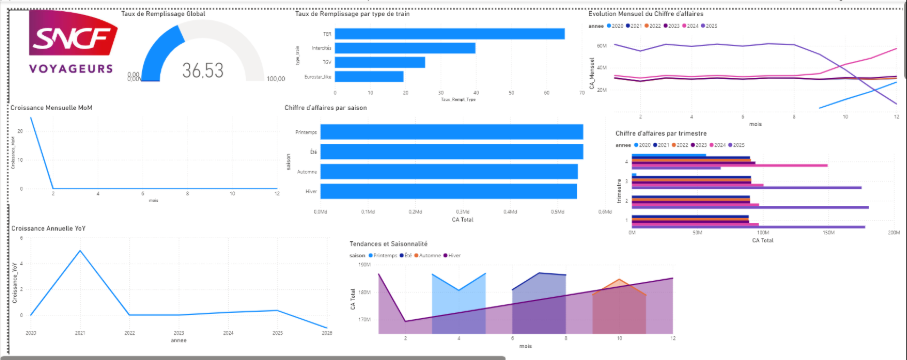

Layout of this report page (visuals, bound fields, positions):
{"tool":"powerbi","page":{"name":"Page 2","canvas":[4000,4000],"ordinal":1},"visuals":[{"type":"image","box":[2,0,326,158],"z":0},{"type":"gauge","title":"Taux de Remplissage Global","fields":{"Y":["sncf_dw f_ventes.Taux_Rempl_Type"]},"box":[276,0,434,188],"z":1000},{"type":"clusteredBarChart","title":"Taux de Remplissage par type de train","fields":{"Category":["sncf_dw dim_train.type_train"],"Y":["sncf_dw f_ventes.Taux_Rempl_Type"]},"box":[710,0,732,234],"z":2000},{"type":"lineChart","title":"Evolution Mensuel du Chiffre d’affaires","fields":{"Category":["sncf_dw dim_date.mois"],"Y":["sncf_dw f_ventes.CA_Mensuel"],"Series":["sncf_dw dim_date.annee"]},"box":[1442,0,788,298],"z":3000},{"type":"lineChart","title":"Croissance Mensuelle MoM ","fields":{"Y":["sncf_dw f_ventes.Croissance_MoM"],"Category":["sncf_dw dim_date.mois"]},"box":[0,234,684,252],"z":4000},{"type":"clusteredBarChart","title":"Chiffre d’affaires par saison","fields":{"Y":["sncf_dw f_ventes.CA Total"],"Category":["sncf_dw dim_date.saison"]},"box":[684,234,826,302],"z":5000},{"type":"clusteredBarChart","title":"Chiffre d’affaires par trimestre ","fields":{"Category":["sncf_dw dim_date.trimestre"],"Y":["sncf_dw f_ventes.CA Total"],"Series":["sncf_dw dim_date.annee"]},"box":[1510,298,720,290],"z":6000},{"type":"lineChart","title":"Croissance Annuelle YoY ","fields":{"Y":["sncf_dw f_ventes.Croissance_YoY"],"Category":["sncf_dw dim_date.annee"]},"box":[2,536,916,316],"z":7000},{"type":"areaChart","title":"Tendances et Saisonnalité","fields":{"Category":["sncf_dw dim_date.mois"],"Y":["sncf_dw f_ventes.CA Total"],"Series":["sncf_dw dim_date.saison"]},"box":[1034,588,1032,264],"z":8000}]}

Visuals, with their boxes on the page's 4000x4000 design canvas (x1, y1, x2, y2). These are canvas units, not pixel positions in the 907x360 screenshot, which may show the page scaled, cropped or inside an application window:
image: (2, 0, 328, 158)
"Taux de Remplissage Global" gauge: (276, 0, 710, 188)
"Taux de Remplissage par type de train" clusteredBarChart: (710, 0, 1442, 234)
"Evolution Mensuel du Chiffre d’affaires" lineChart: (1442, 0, 2230, 298)
"Croissance Mensuelle MoM " lineChart: (0, 234, 684, 486)
"Chiffre d’affaires par saison" clusteredBarChart: (684, 234, 1510, 536)
"Chiffre d’affaires par trimestre " clusteredBarChart: (1510, 298, 2230, 588)
"Croissance Annuelle YoY " lineChart: (2, 536, 918, 852)
"Tendances et Saisonnalité" areaChart: (1034, 588, 2066, 852)
